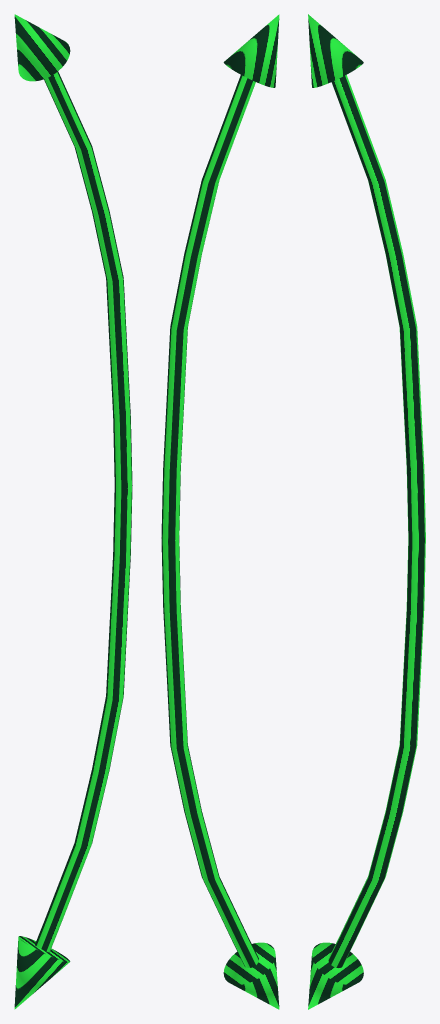
File: Spotlight_GreenArrow_Long.glb
3 renders of one model, left to right at view 1: azimuth 30°, elevation 25°; view 2: azimuth 210°, elevation 25°; view 3: azimuth 330°, elevation 25°, orthographic.
Parts seen in each view (by area): view 1: Cylinder.040, Cone.022, Cone.005; view 2: Cylinder.040, Cone.022, Cone.005; view 3: Cylinder.040, Cone.022, Cone.005.
Boxes of the visible parts, <box> form: Cylinder.040: <box>35,71,132,952</box>; Cone.022: <box>14,14,70,81</box>; Cone.005: <box>14,936,70,1009</box>; Cylinder.040: <box>161,75,258,967</box>; Cone.022: <box>223,14,279,87</box>; Cone.005: <box>223,942,279,1009</box>; Cylinder.040: <box>328,75,425,967</box>; Cone.022: <box>308,14,363,87</box>; Cone.005: <box>308,942,363,1009</box>.
Size of the model in its own units: 0.2105 by 1.71 by 0.0901.
Materials: 1 (1 with a texture image).
